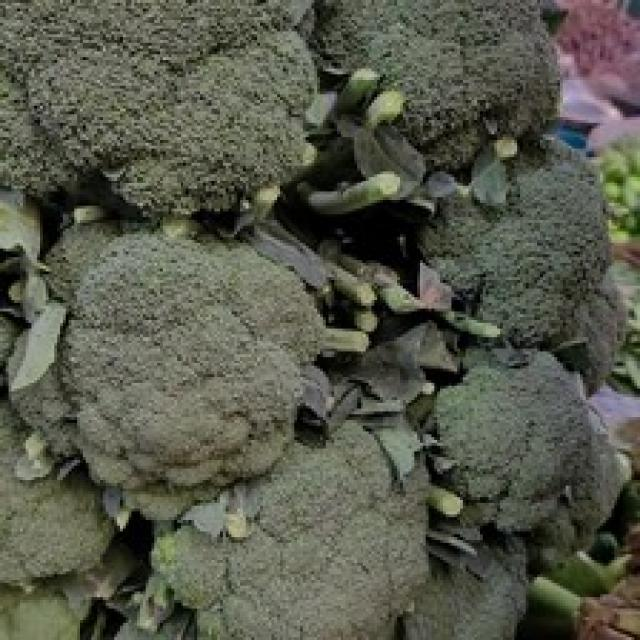Broccoli: (0, 0, 318, 216), (0, 0, 316, 214), (60, 234, 324, 488), (61, 234, 322, 489), (152, 422, 428, 640), (154, 422, 428, 640), (421, 149, 625, 388), (421, 150, 625, 388), (315, 2, 558, 171), (318, 1, 558, 171), (434, 351, 621, 531), (438, 351, 621, 530), (0, 399, 114, 583), (0, 399, 114, 583), (401, 539, 526, 640), (402, 548, 526, 640)
